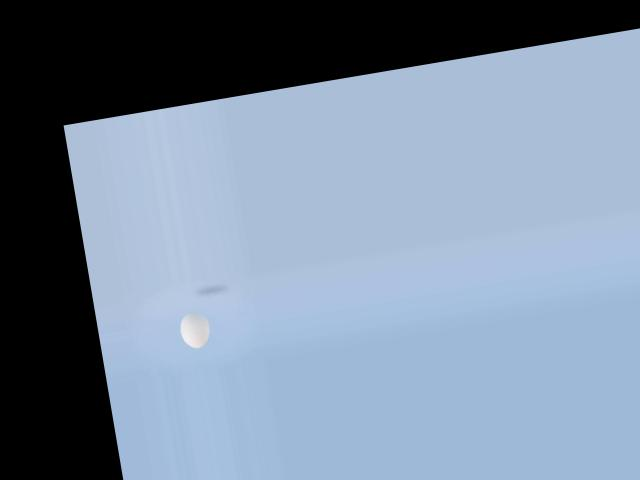egg: (177, 309, 212, 350)
